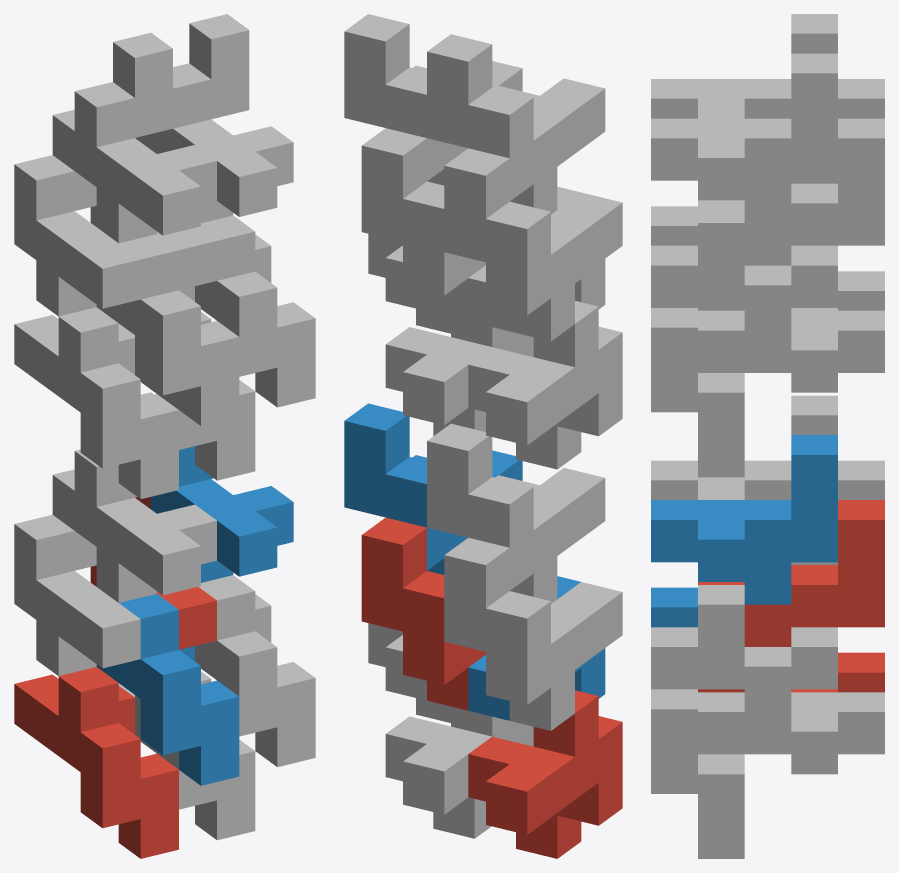
The model's file is tiling.obj.
3 renders of one model, left to right at view 1: azimuth 30°, elevation 25°; view 2: azimuth 150°, elevation 25°; view 3: azimuth 270°, elevation 25°, orthographic. The views are drawn at different scales.
Visible parts, largest first — view 1: copy_2_domain_4, copy_1_domain_3, copy_1_domain_1, copy_2_domain_8, copy_2_domain_1, copy_2_domain_3, copy_1_domain_4, copy_1_domain_2, copy_2_domain_2, copy_1_domain_8, copy_1_domain_6, copy_2_domain_6 (+4 smaller); view 2: copy_2_domain_3, copy_2_domain_1, copy_2_domain_4, copy_2_domain_2, copy_1_domain_1, copy_1_domain_3, copy_2_domain_7, copy_2_domain_5, copy_1_domain_5, copy_2_domain_8, copy_2_domain_6, copy_1_domain_7 (+4 smaller); view 3: copy_1_domain_8, copy_1_domain_6, copy_2_domain_8, copy_2_domain_6, copy_1_domain_7, copy_1_domain_5, copy_2_domain_7, copy_2_domain_5, copy_2_domain_4, copy_2_domain_2, copy_1_domain_1, copy_1_domain_3 (+4 smaller).
Part boxes in pixels (x1=…): copy_2_domain_4: x1=74, y1=32, x2=216, y2=243; copy_1_domain_3: x1=14, y1=307, x2=178, y2=498; copy_1_domain_1: x1=14, y1=667, x2=178, y2=858; copy_2_domain_8: x1=151, y1=14, x2=293, y2=223; copy_2_domain_1: x1=14, y1=469, x2=140, y2=675; copy_2_domain_3: x1=14, y1=109, x2=140, y2=316; copy_1_domain_4: x1=96, y1=234, x2=239, y2=425; copy_1_domain_2: x1=96, y1=594, x2=239, y2=785; copy_2_domain_2: x1=74, y1=392, x2=216, y2=602; copy_1_domain_8: x1=195, y1=215, x2=315, y2=407; copy_1_domain_6: x1=195, y1=575, x2=315, y2=766; copy_2_domain_6: x1=151, y1=446, x2=293, y2=582; copy_2_domain_3: x1=444, y1=148, x2=622, y2=341; copy_2_domain_1: x1=444, y1=537, x2=622, y2=730; copy_2_domain_4: x1=427, y1=34, x2=605, y2=214; copy_2_domain_2: x1=427, y1=423, x2=605, y2=603; copy_1_domain_1: x1=468, y1=690, x2=622, y2=858; copy_1_domain_3: x1=468, y1=301, x2=622, y2=469; copy_2_domain_7: x1=361, y1=128, x2=485, y2=320; copy_2_domain_5: x1=361, y1=517, x2=485, y2=710; copy_1_domain_5: x1=385, y1=706, x2=533, y2=838; copy_2_domain_8: x1=344, y1=14, x2=522, y2=185; copy_2_domain_6: x1=344, y1=403, x2=522, y2=574; copy_1_domain_7: x1=385, y1=317, x2=533, y2=435; copy_1_domain_8: x1=651, y1=203, x2=837, y2=412; copy_1_domain_6: x1=651, y1=585, x2=837, y2=793; copy_2_domain_8: x1=651, y1=53, x2=837, y2=222; copy_2_domain_6: x1=651, y1=435, x2=837, y2=604; copy_1_domain_7: x1=698, y1=310, x2=884, y2=477; copy_1_domain_5: x1=698, y1=692, x2=884, y2=858; copy_2_domain_7: x1=698, y1=118, x2=884, y2=265; copy_2_domain_5: x1=698, y1=500, x2=884, y2=646; copy_2_domain_4: x1=651, y1=14, x2=837, y2=118; copy_2_domain_2: x1=651, y1=395, x2=837, y2=499; copy_1_domain_1: x1=698, y1=652, x2=884, y2=692; copy_1_domain_3: x1=698, y1=271, x2=884, y2=310.
Size of the model in its own units: 5 by 19 by 5.
